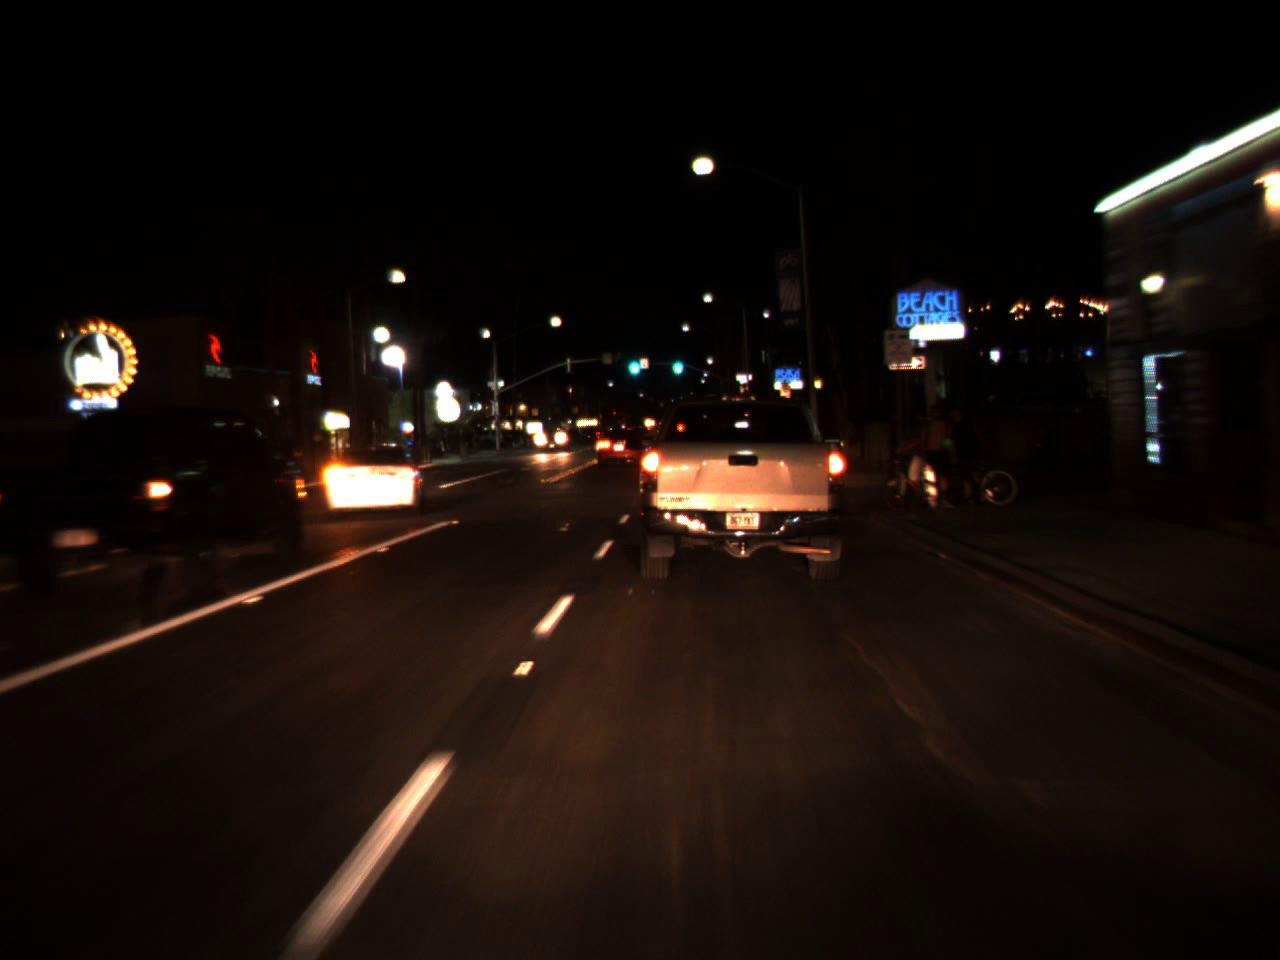go: (623, 344, 642, 380), (669, 346, 685, 379)
